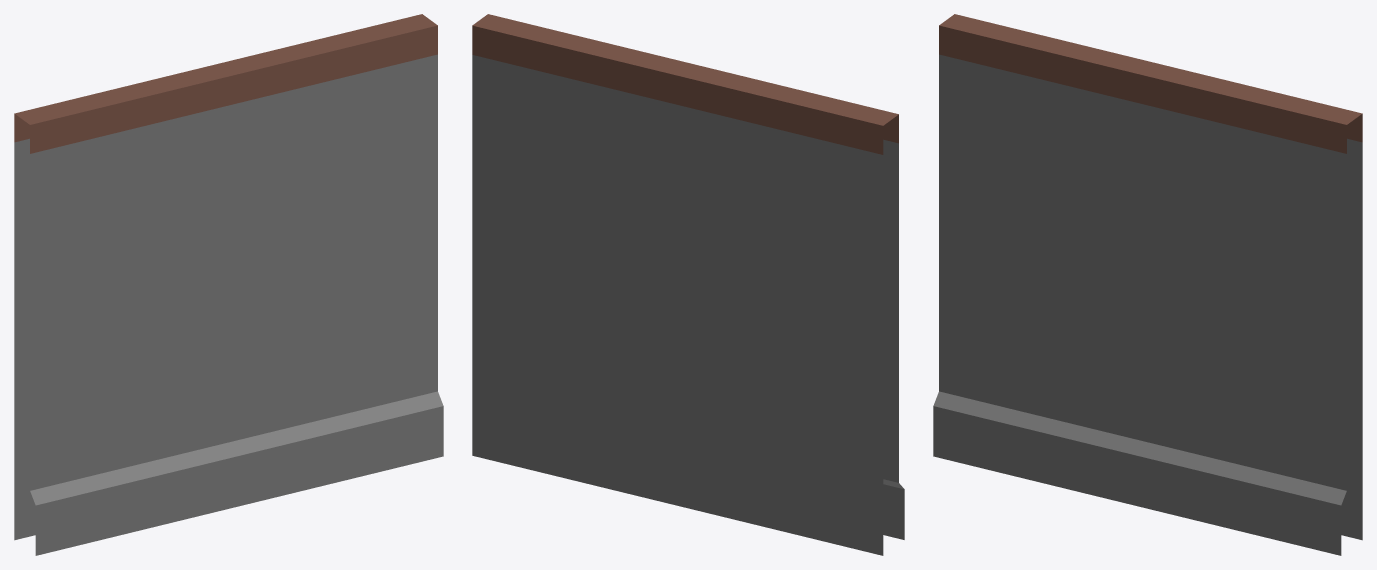
Rendered from Wall111.fbx.
3 views of the same model, side by side, from view 1: azimuth 30°, elevation 25°; view 2: azimuth 150°, elevation 25°; view 3: azimuth 330°, elevation 25° (orthographic).
Visible parts, largest first — view 1: Box010; view 2: Box010; view 3: Box010.
Boxes of the visible parts, bbox=[...] form: Box010: bbox=[14, 14, 443, 555]; Box010: bbox=[472, 14, 904, 555]; Box010: bbox=[933, 14, 1362, 555].
Bounding box in the file's own units: 300 × 300 × 27.18.
